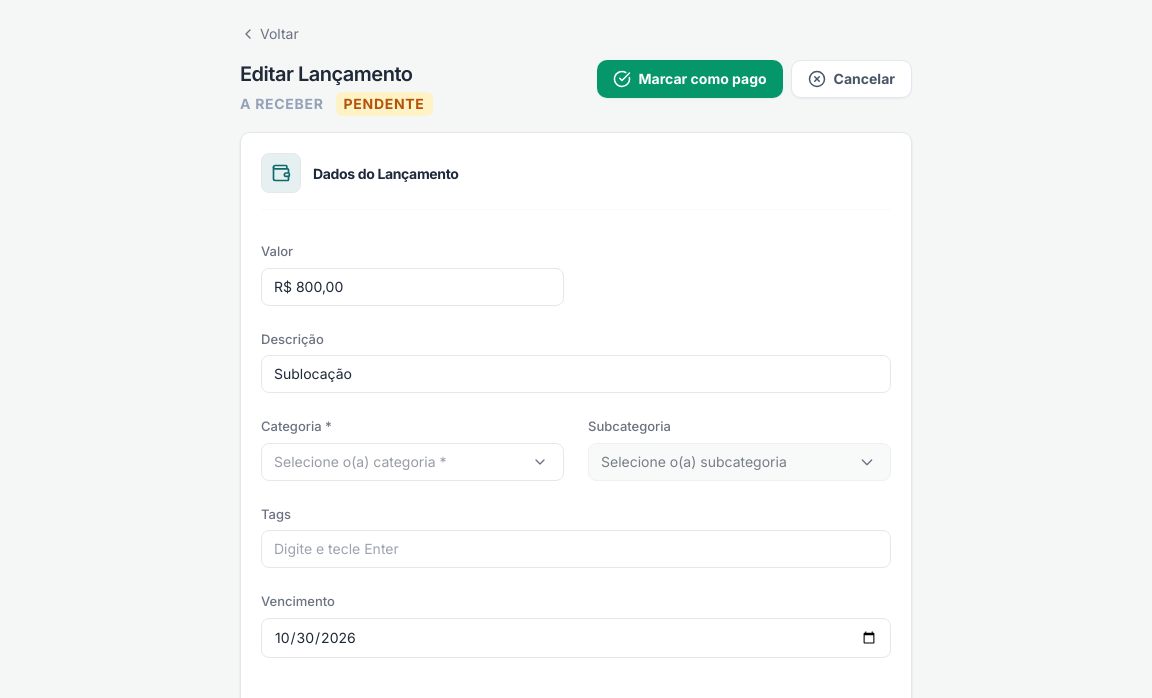
Test: <FinancialEntryEdit> › cartão exige parcelas antes de liberar a confirmação
Click the button "Marcar como pago" at (690, 79), box [596,60,783,98]
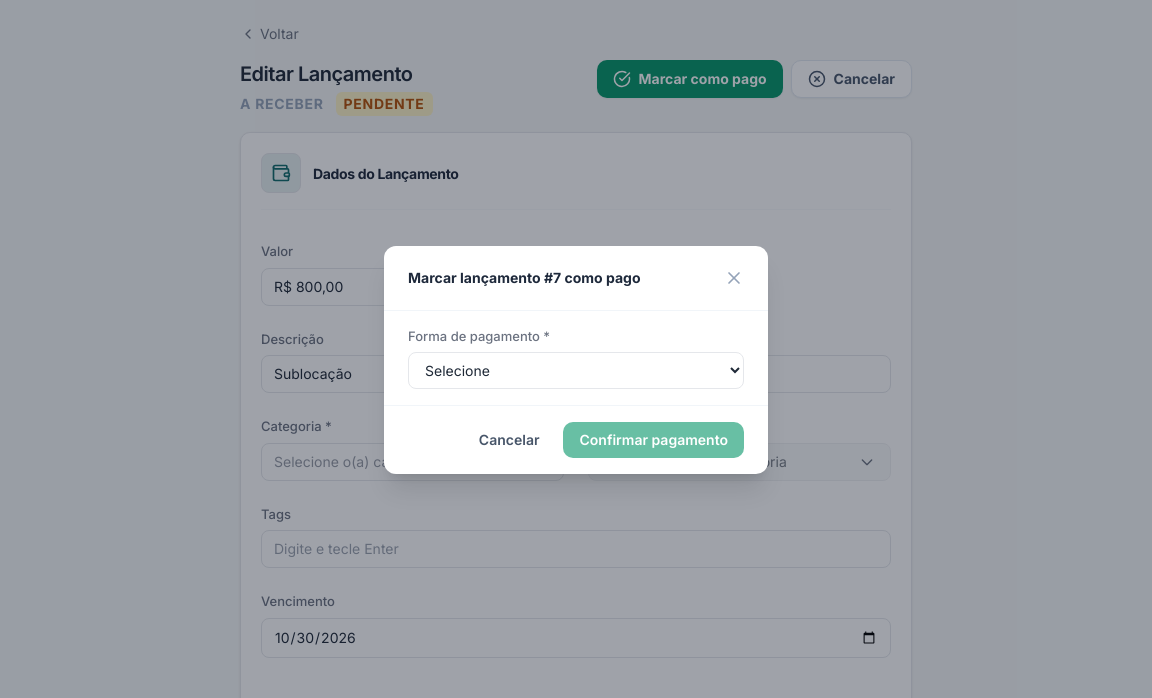
Select "Cartão" in the dropdown labelled "Forma de pagamento *" at (576, 371), box [408,352,744,389]
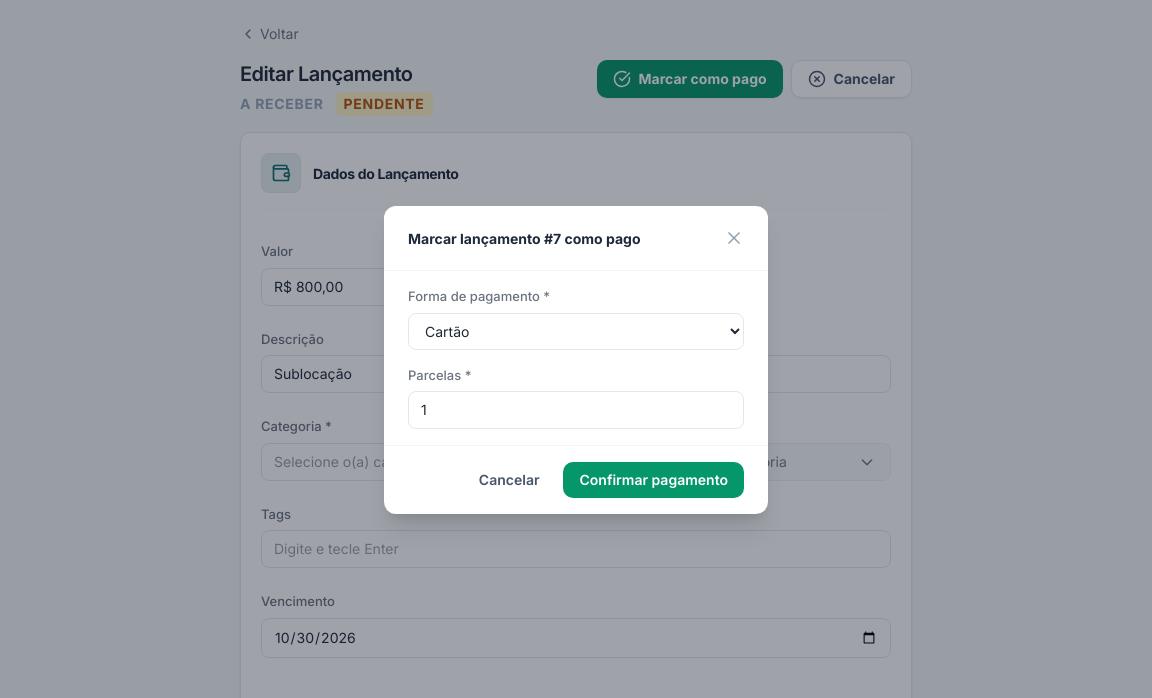
expect the number field labelled "Parcelas *" is shown: met
Replace the text in the number field labelled "Parcelas *" with "0" at (576, 410), box [408,391,744,429]
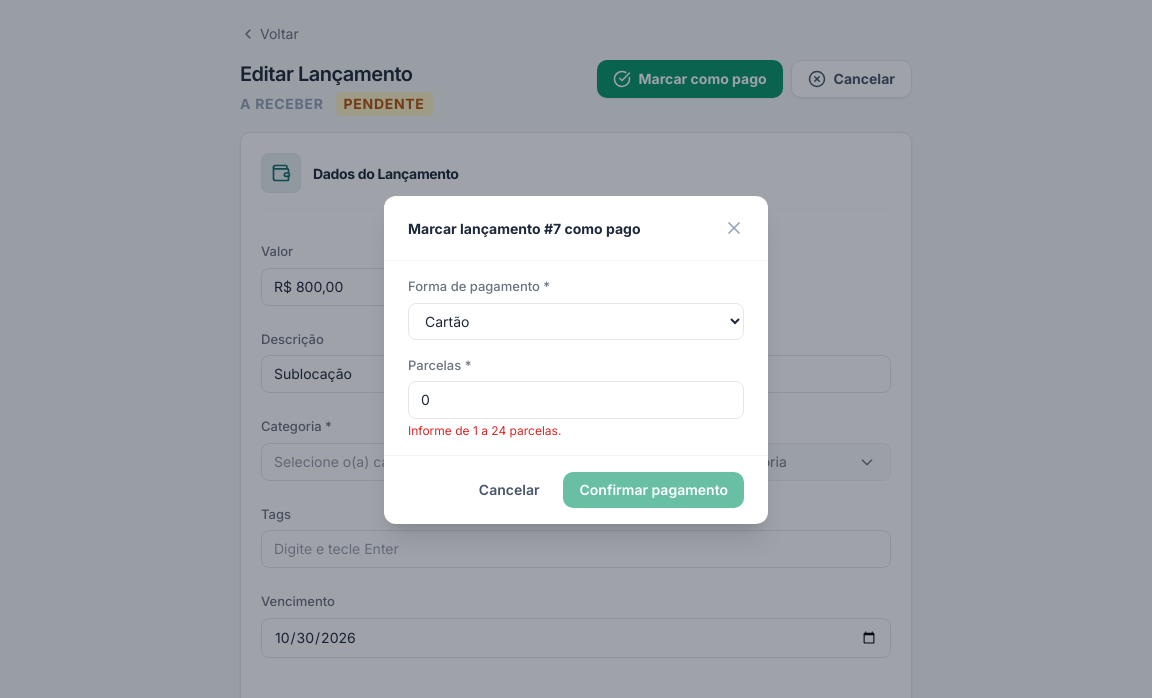
expect the button "Confirmar pagamento" is disabled: met, box [564,472,744,508]
